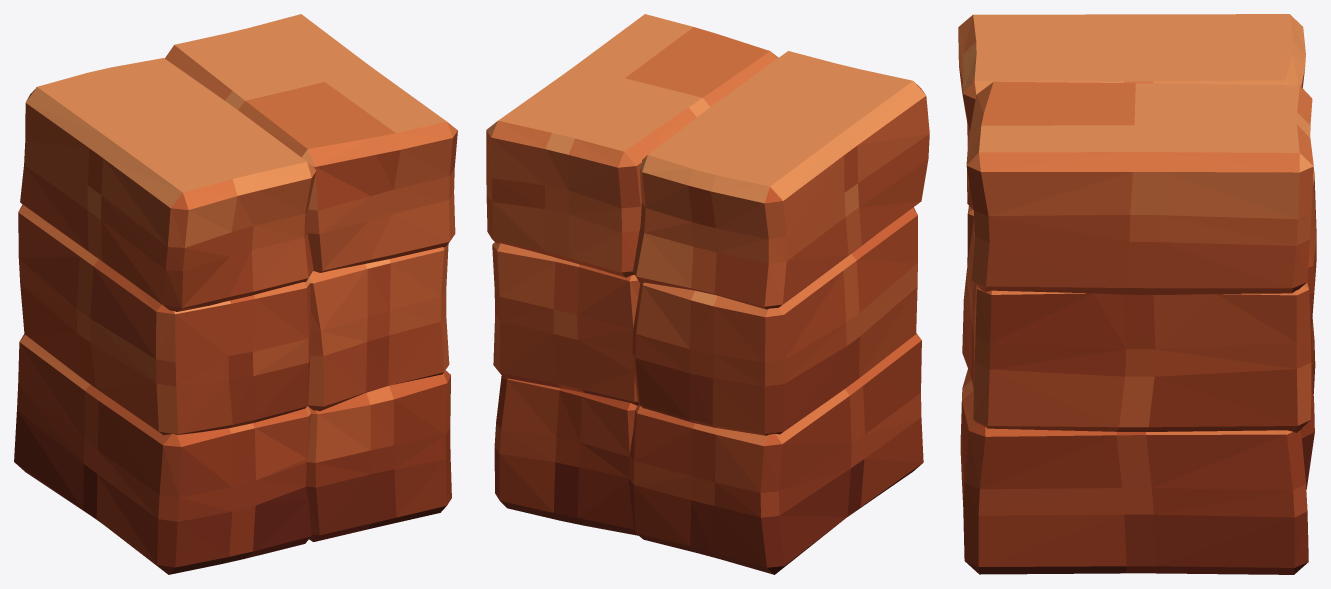
File: SM_ROCK_BLOCK_07.fbx
3 renders of one model, left to right at view 1: azimuth 30°, elevation 25°; view 2: azimuth 150°, elevation 25°; view 3: azimuth 270°, elevation 25°, orthographic. The views are drawn at different scales.
Visible parts, largest first — view 1: ROCK_BLOCK_07; view 2: ROCK_BLOCK_07; view 3: ROCK_BLOCK_07.
Part boxes in pixels (box(x1,y1,x2,y2)): ROCK_BLOCK_07: box(14, 14, 457, 574); ROCK_BLOCK_07: box(486, 14, 929, 574); ROCK_BLOCK_07: box(958, 14, 1316, 574).
Bounding box in the file's own units: 1.29 × 1.22 × 1.6.
